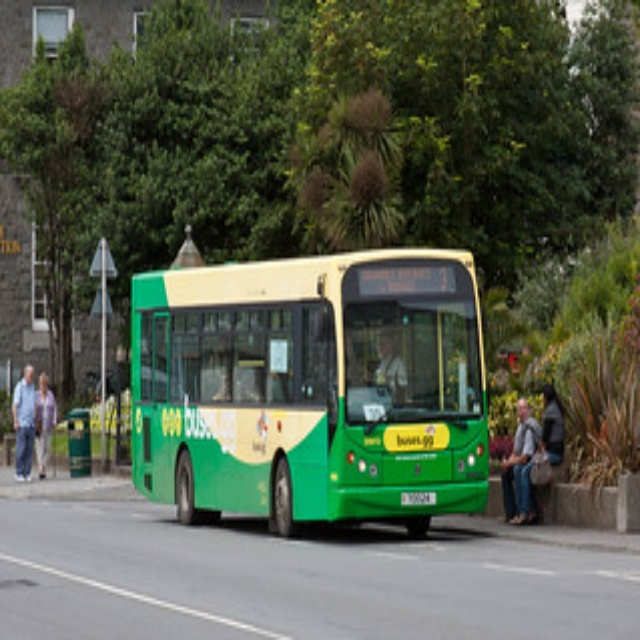Bus: (122, 243, 490, 538)
